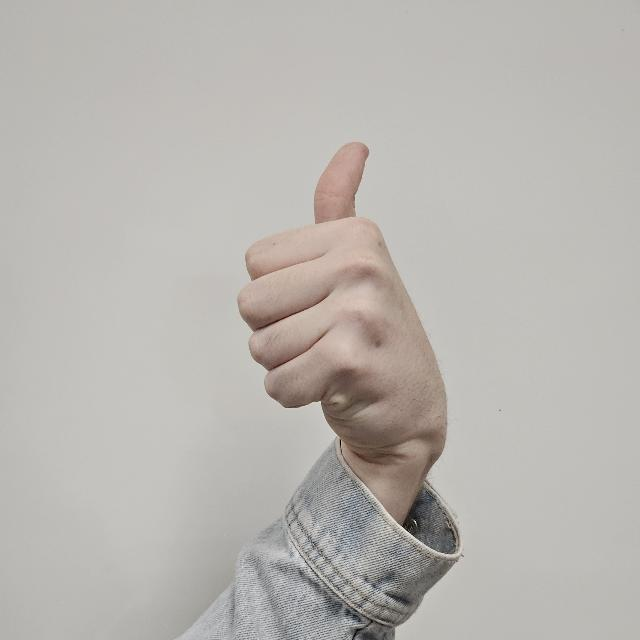Start: (233, 136, 415, 424)
